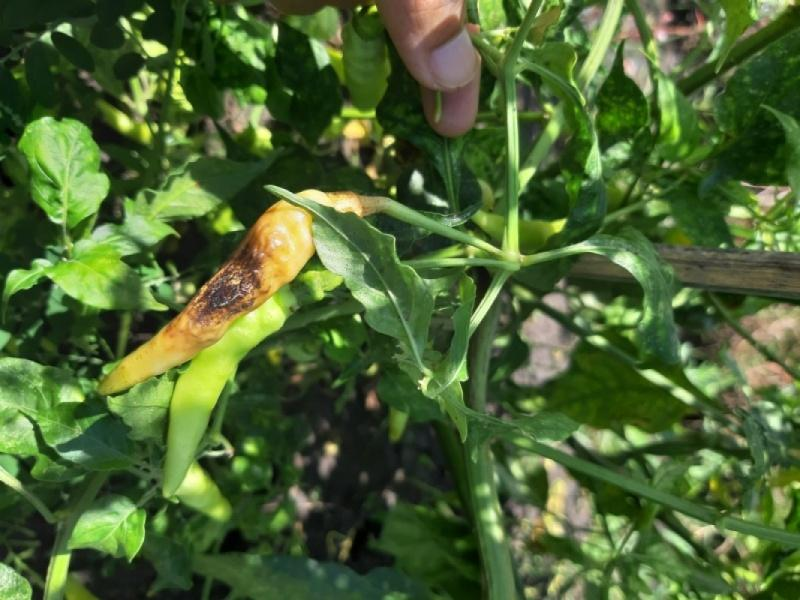antraknosa: (99, 188, 339, 400)
